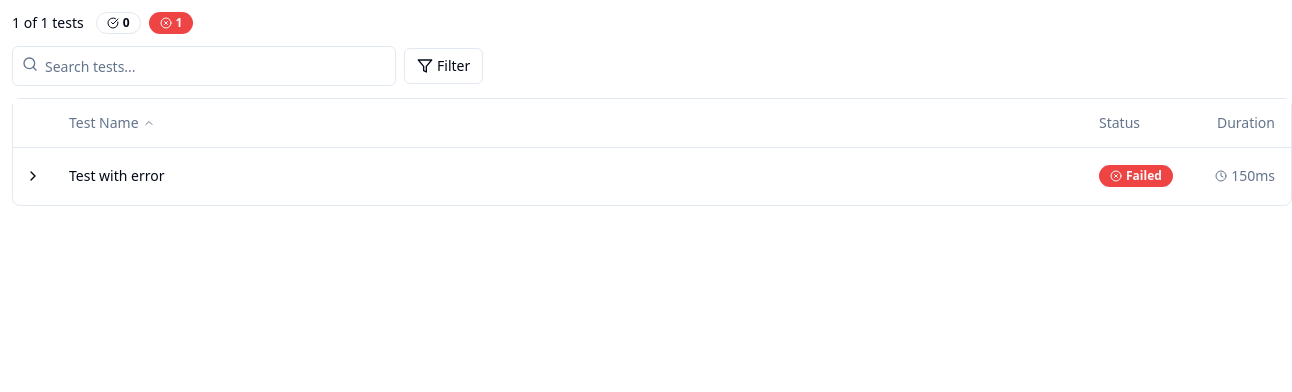
TestResultsTable › Row Expansion › expands row when clicked
Check: the text "Test with error" is shown, box [69, 166, 164, 185]
Click the text "Test with error".
click(117, 176)  # box [13, 147, 1291, 204]
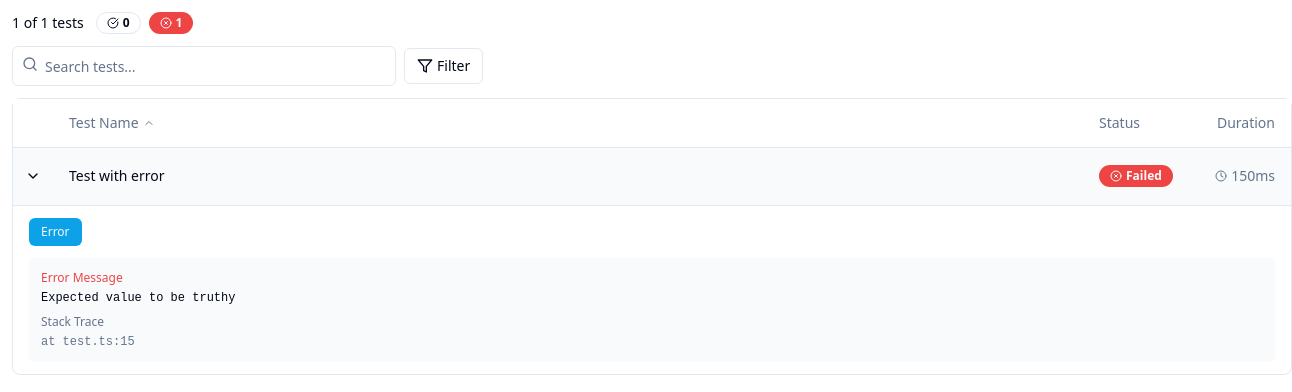
Check: the text "Expected value to be truthy" is shown, box [41, 290, 235, 304]
